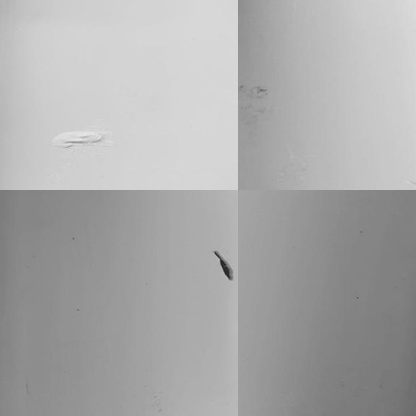kongdong: (212, 249, 234, 282)
sunshang: (54, 126, 110, 148)
